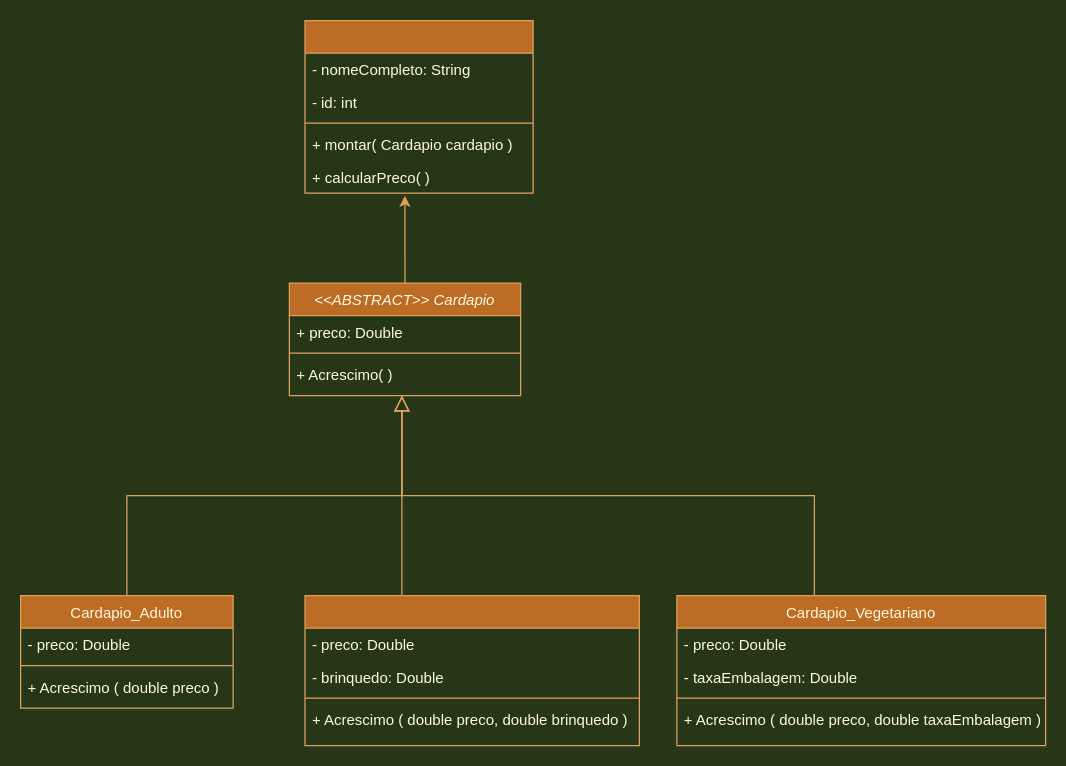
Some shapes in this 1066 by 766 pixel diagram are drawn without their labels. Each missing label, with the box of its shape:
Cardapio_Infantil: (304, 594, 639, 746)
Funcionario: (304, 19, 533, 193)
